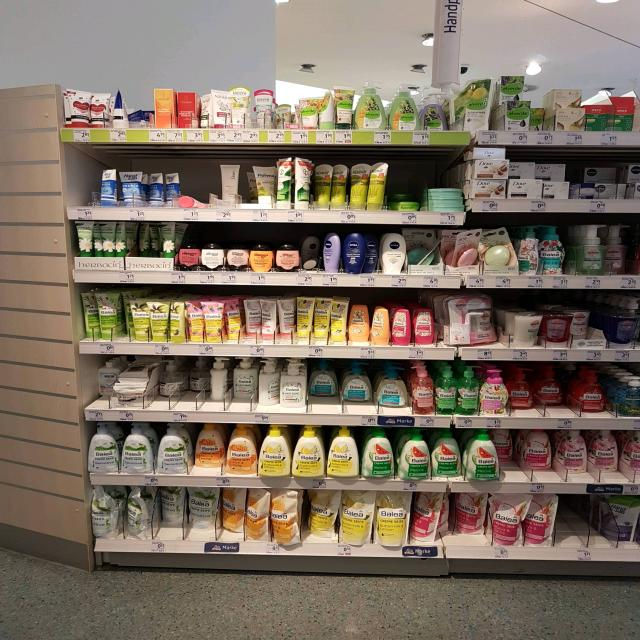empty: (556, 494, 609, 557), (68, 159, 96, 208)
